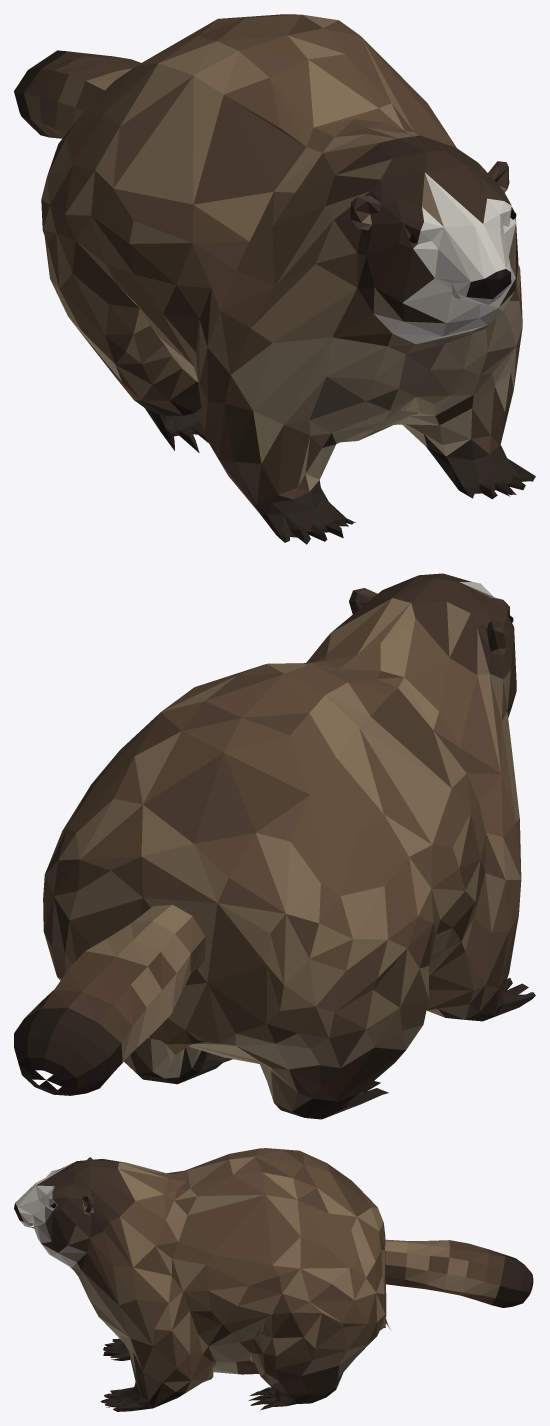
The model's file is marmot.glb.
3 renders of one model, top to bottom at view 1: azimuth 30°, elevation 25°; view 2: azimuth 150°, elevation 25°; view 3: azimuth 270°, elevation 25°, orthographic. The views are drawn at different scales.
Parts seen in each view (by area): view 1: lod0; view 2: lod0; view 3: lod0.
Part boxes in pixels (x1,y1,x2,y2): lod0: (14,14,535,544); lod0: (14,573,535,1119); lod0: (14,1148,533,1411).
Size of what is drawn, in the model's own units: 0.3149 by 0.3291 by 0.6942.
